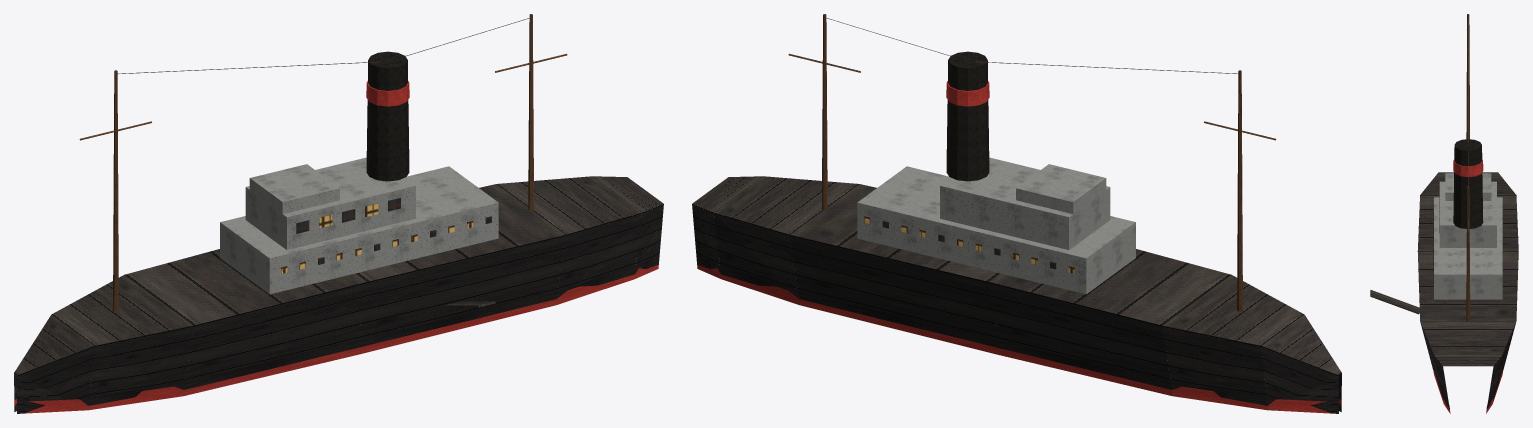
Rendered from vapor.obj.
3 views of the same model, side by side, from view 1: azimuth 30°, elevation 25°; view 2: azimuth 150°, elevation 25°; view 3: azimuth 270°, elevation 25° (orthographic). The views are drawn at different scales.
Visible parts, largest first — view 1: vapor; view 2: vapor; view 3: vapor.
Boxes of the visible parts, <box> form: vapor: <box>14,14,663,413</box>; vapor: <box>692,14,1341,413</box>; vapor: <box>1370,14,1518,413</box>.
Size of the model in its own units: 44 by 21.2 by 12.96.
Materials: 9 (9 with a texture image).
